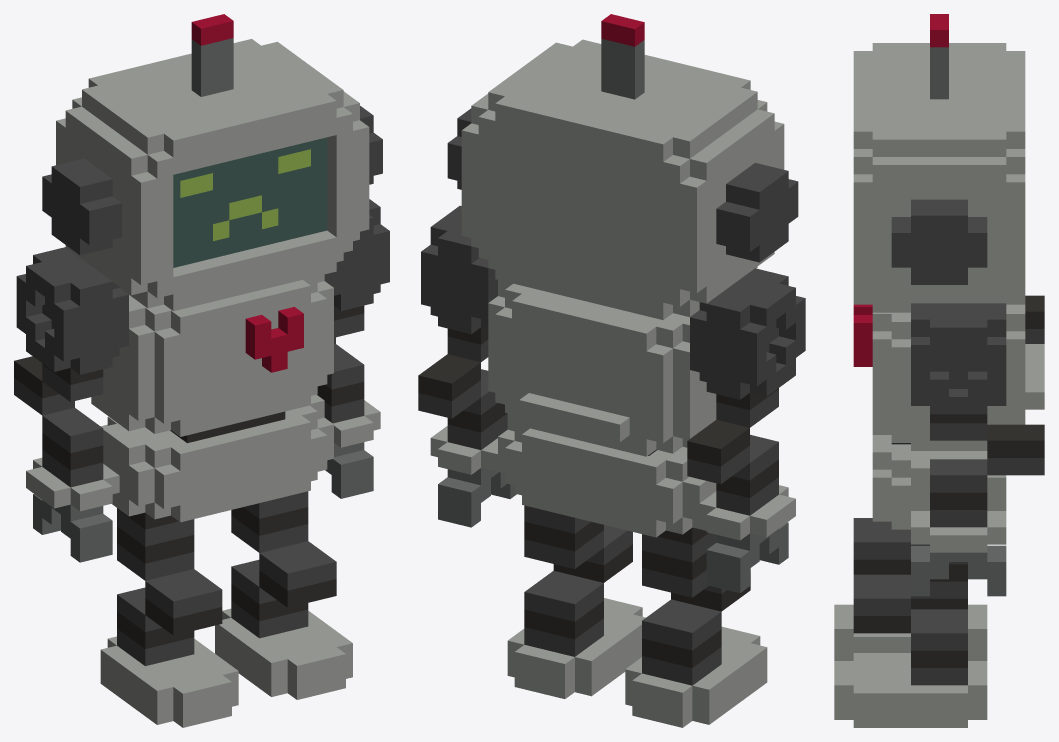
The model's file is player_main_jump-rest_1.fbx.
3 renders of one model, left to right at view 1: azimuth 30°, elevation 25°; view 2: azimuth 150°, elevation 25°; view 3: azimuth 270°, elevation 25°, orthographic. The views are drawn at different scales.
Parts seen in each view (by area): view 1: model_4; view 2: model_4; view 3: model_4.
Boxes of the visible parts, x1,y1,x2,y2 form: model_4: (14,14,389,727); model_4: (418,14,805,727); model_4: (834,14,1044,727).
Bounding box in the file's own units: 200 × 110 × 380.
